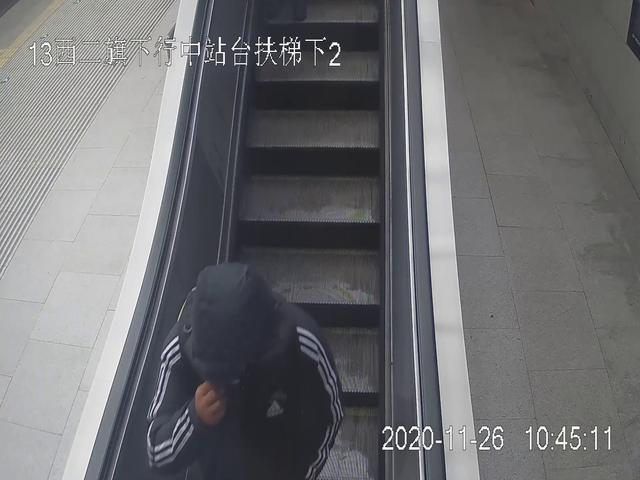person: (145, 263, 346, 480)
